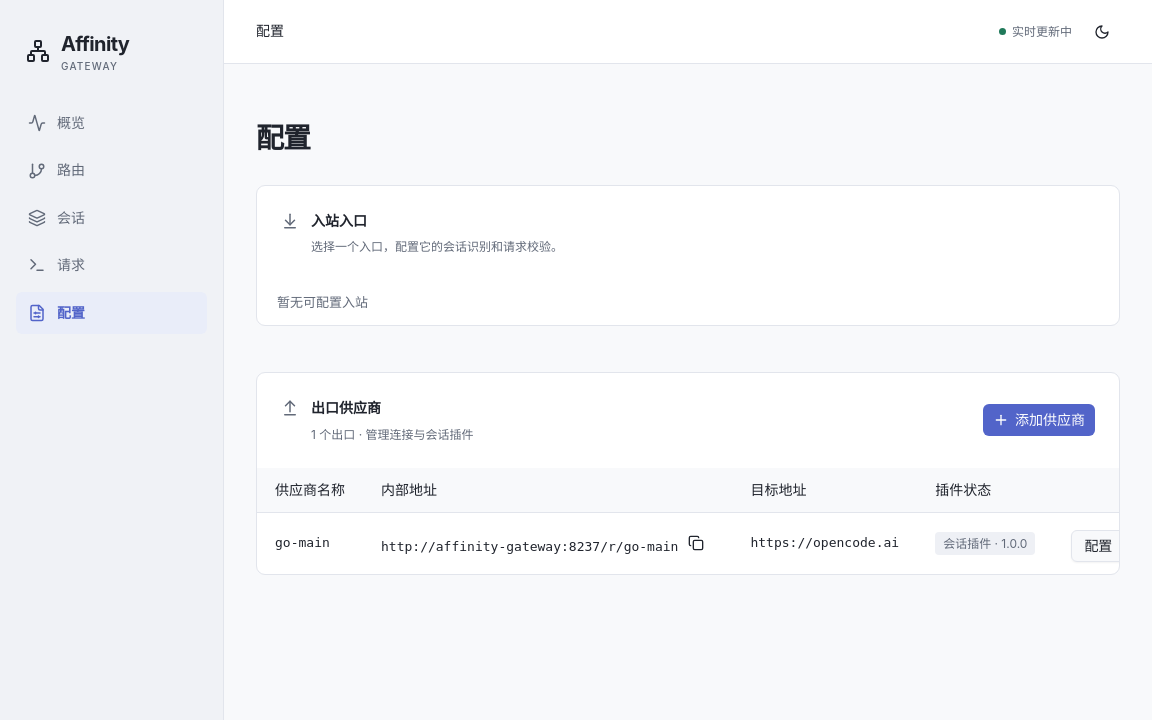
Test: supplier configuration › allows repeated copy notifications and manual dismissal
Click the button named "复制 go-main 内部地址" at (696, 543), box x1=678 y1=525 x2=714 y2=561
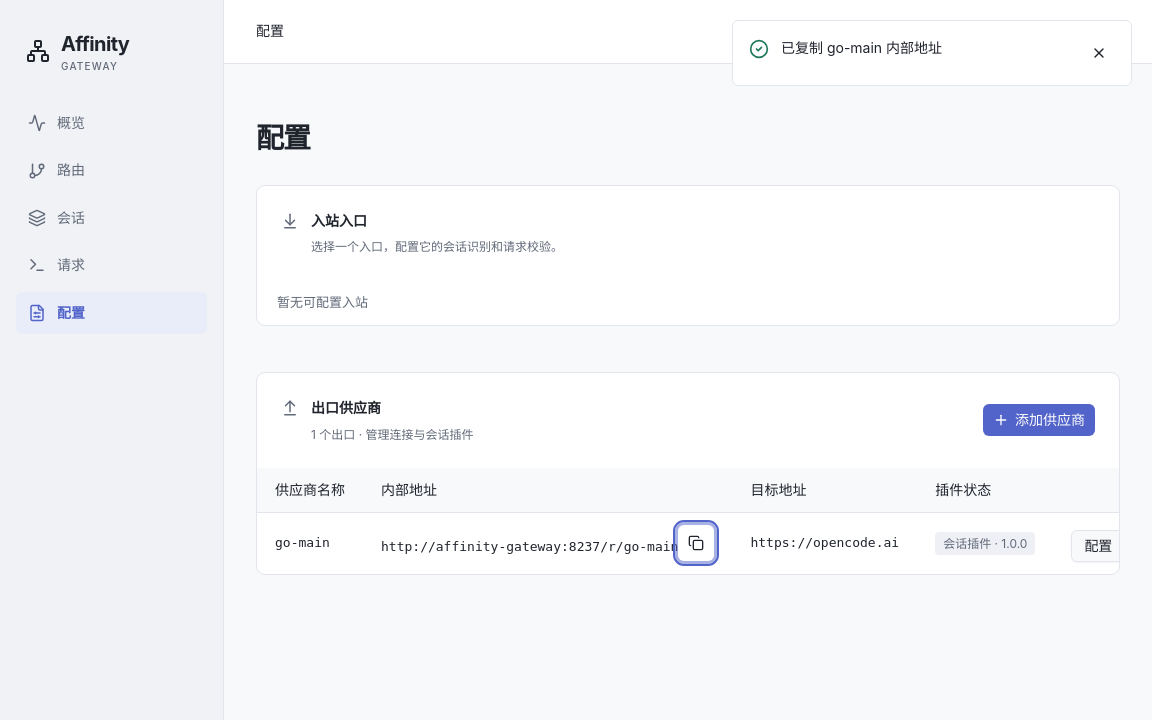
Click the button named "复制 go-main 内部地址" at (696, 543), box x1=678 y1=525 x2=714 y2=561
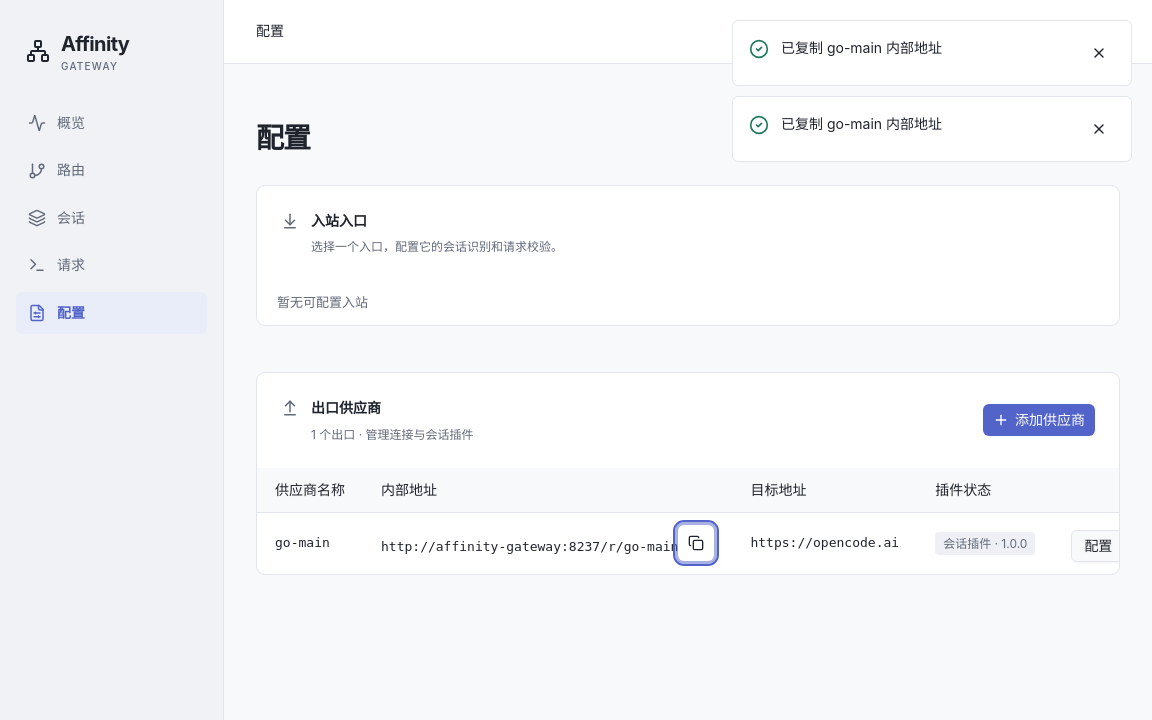
Result: the number of buttons named "关闭通知" is 2
Click the 1st button named "关闭通知" at (1099, 53), box x1=1083 y1=37 x2=1115 y2=69
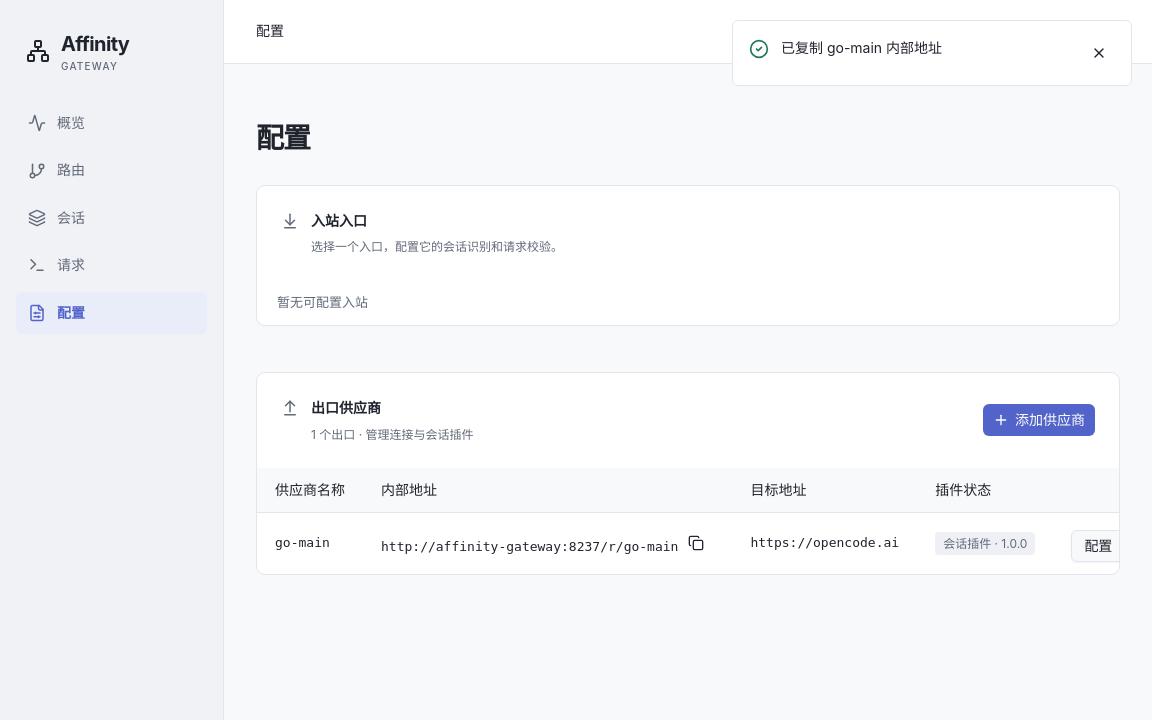
Result: the number of buttons named "关闭通知" is 1 at x1=1083 y1=37 x2=1115 y2=69
